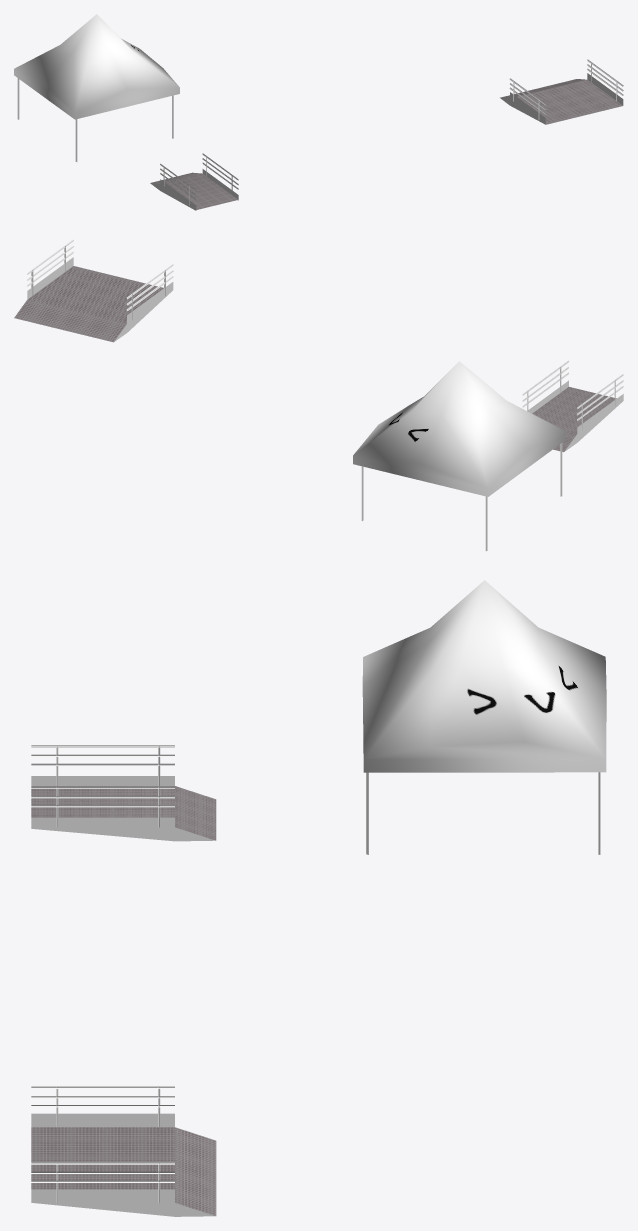
File: terasse_tente_escaliers.gltf
3 views of the same model, one above another, from view 1: azimuth 30°, elevation 25°; view 2: azimuth 150°, elevation 25°; view 3: azimuth 270°, elevation 25° (orthographic). The views are drawn at different scales.
Visible parts, largest first — view 1: tente_drap, Cube001, Cube001_1, piquets_tente; view 2: tente_drap, Cube001, Cube001_1, piquets_tente; view 3: tente_drap, Cube001, Cube001_1.
Boxes of the visible parts, x1,y1,x2,y2 form: tente_drap: (14,14,179,119); Cube001: (151,79,622,209); Cube001_1: (150,59,623,210); piquets_tente: (17,78,173,161); tente_drap: (353,361,565,496); Cube001: (14,266,616,452); Cube001_1: (27,239,623,451); piquets_tente: (361,443,562,550); tente_drap: (362,580,606,772); Cube001: (31,786,216,1215); Cube001_1: (31,745,215,1216).
Size of the model in its own units: 10.38 by 2.48 by 5.54.
Materials: 3 (2 with a texture image).
